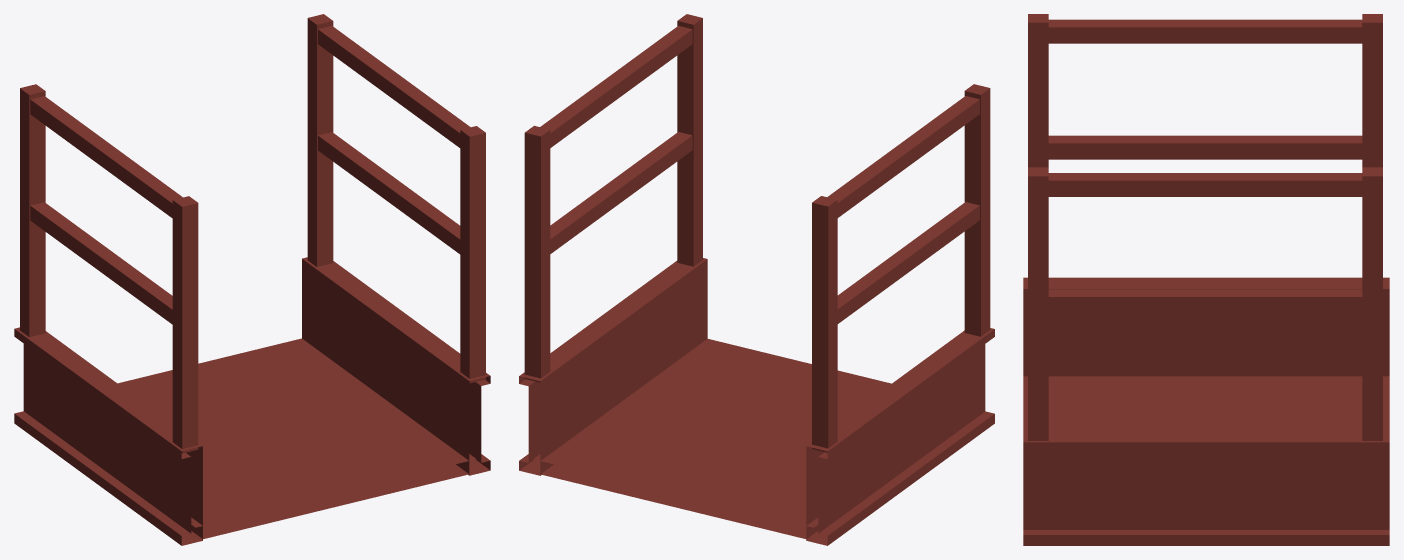
The model's file is Walkway New 6.fbx.
The picture shows the model from 3 angles, left to right: view 1: azimuth 30°, elevation 25°; view 2: azimuth 150°, elevation 25°; view 3: azimuth 270°, elevation 25°; orthographic projection. The views are drawn at different scales.
Parts seen in each view (by area): view 1: polySurface247; view 2: polySurface247; view 3: polySurface247.
Boxes of the visible parts, x1,y1,x2,y2 form: polySurface247: [14, 14, 490, 545]; polySurface247: [519, 14, 994, 545]; polySurface247: [1023, 14, 1389, 545].
Bounding box in the file's own units: 129 × 134 × 121.
